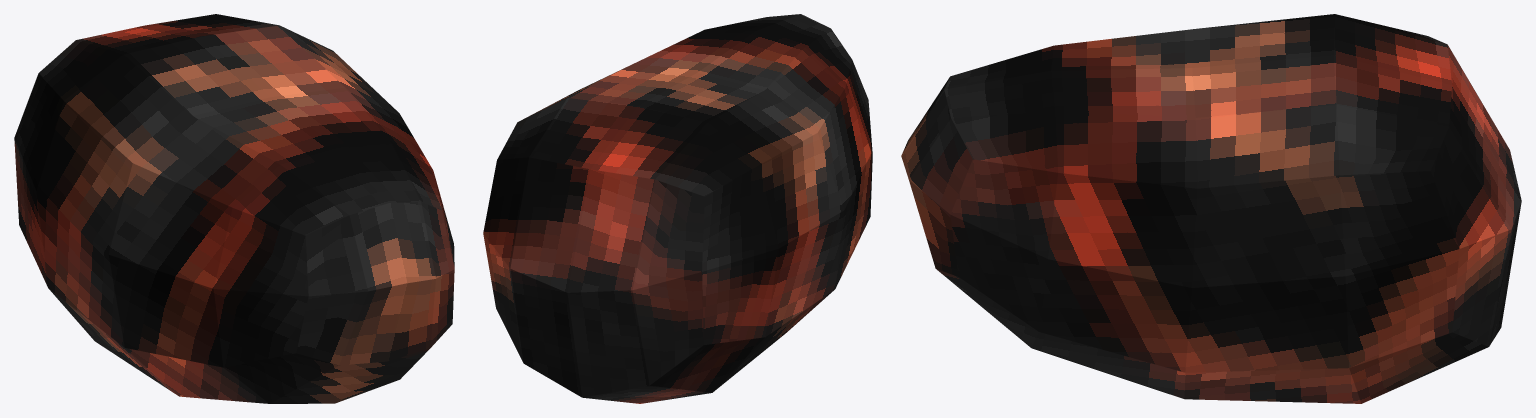
Rendered from afritlung.obj.
3 views of the same model, side by side, from view 1: azimuth 30°, elevation 25°; view 2: azimuth 150°, elevation 25°; view 3: azimuth 270°, elevation 25° (orthographic). The views are drawn at different scales.
Visible parts, largest first — view 1: afritlung; view 2: afritlung; view 3: afritlung.
Boxes of the visible parts, x1,y1,x2,y2 form: afritlung: [14, 14, 454, 403]; afritlung: [483, 14, 872, 403]; afritlung: [901, 14, 1521, 403].
Bounding box in the file's own units: 0.3083 × 0.3011 × 0.5017.
